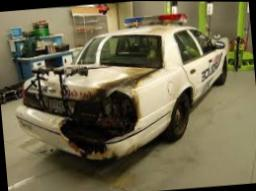Bumper: (15, 103, 132, 161)
Light: (105, 89, 137, 130)
Windshield: (77, 36, 163, 68)
